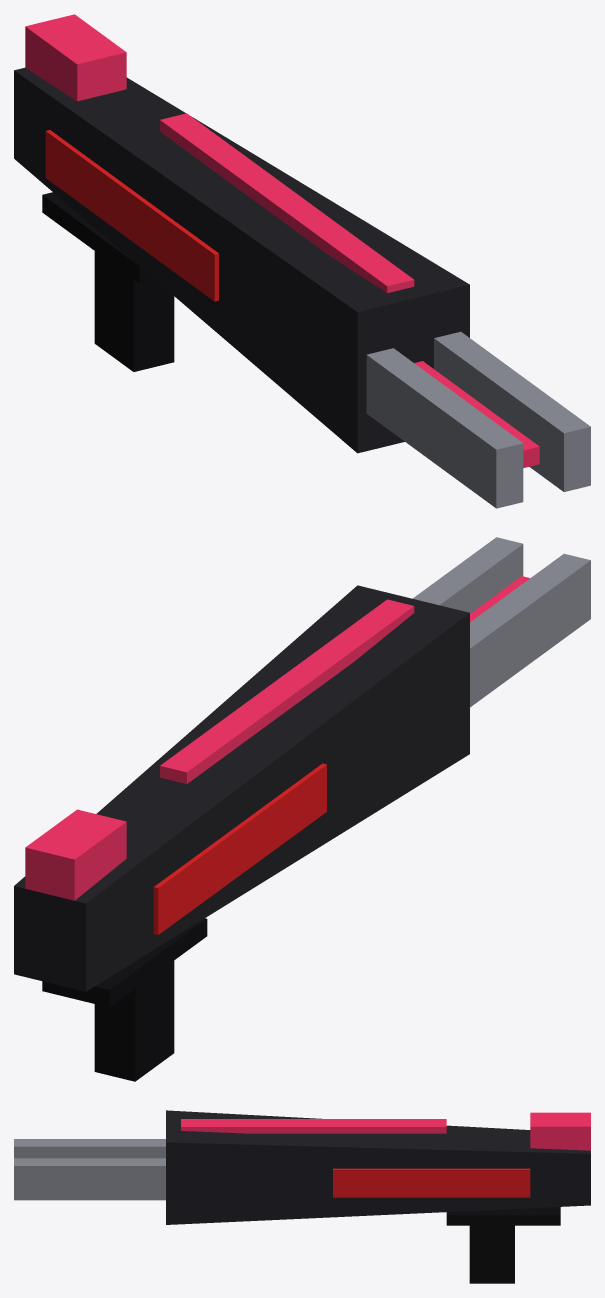
Rendered from weapon_F2_PlasmaRifle.obj.
3 renders of one model, top to bottom at view 1: azimuth 30°, elevation 25°; view 2: azimuth 150°, elevation 25°; view 3: azimuth 270°, elevation 25°, orthographic. The views are drawn at different scales.
Parts seen in each view (by area): view 1: F2_PlasmaRifle_WBody, F2_PlasmaRifle_WPanel, F2_PlasmaRifle_Energy, F2_PlasmaRifle_WDark, F2_PlasmaRifle_WAccent, F2_PlasmaRifle_Cell; view 2: F2_PlasmaRifle_WBody, F2_PlasmaRifle_WPanel, F2_PlasmaRifle_WDark, F2_PlasmaRifle_Energy, F2_PlasmaRifle_WAccent, F2_PlasmaRifle_Cell; view 3: F2_PlasmaRifle_WBody, F2_PlasmaRifle_WPanel, F2_PlasmaRifle_WAccent, F2_PlasmaRifle_WDark, F2_PlasmaRifle_Energy, F2_PlasmaRifle_Cell.
Part boxes in pixels (x1,y1,x2,y2): F2_PlasmaRifle_WBody: (14, 67, 469, 453); F2_PlasmaRifle_WPanel: (366, 331, 590, 508); F2_PlasmaRifle_Energy: (160, 113, 539, 467); F2_PlasmaRifle_WDark: (42, 192, 174, 371); F2_PlasmaRifle_WAccent: (45, 130, 218, 301); F2_PlasmaRifle_Cell: (25, 14, 126, 101); F2_PlasmaRifle_WBody: (14, 585, 469, 991); F2_PlasmaRifle_WPanel: (413, 537, 590, 707); F2_PlasmaRifle_WDark: (42, 918, 207, 1081); F2_PlasmaRifle_Energy: (160, 576, 529, 783); F2_PlasmaRifle_WAccent: (153, 763, 326, 934); F2_PlasmaRifle_Cell: (25, 809, 126, 900); F2_PlasmaRifle_WBody: (166, 1110, 590, 1224); F2_PlasmaRifle_WPanel: (14, 1139, 165, 1200); F2_PlasmaRifle_WAccent: (333, 1168, 530, 1197); F2_PlasmaRifle_WDark: (446, 1207, 560, 1283); F2_PlasmaRifle_Energy: (181, 1119, 446, 1133); F2_PlasmaRifle_Cell: (530, 1112, 590, 1150).
Bounding box in the file's own units: 0.1 × 0.23 × 0.76.
